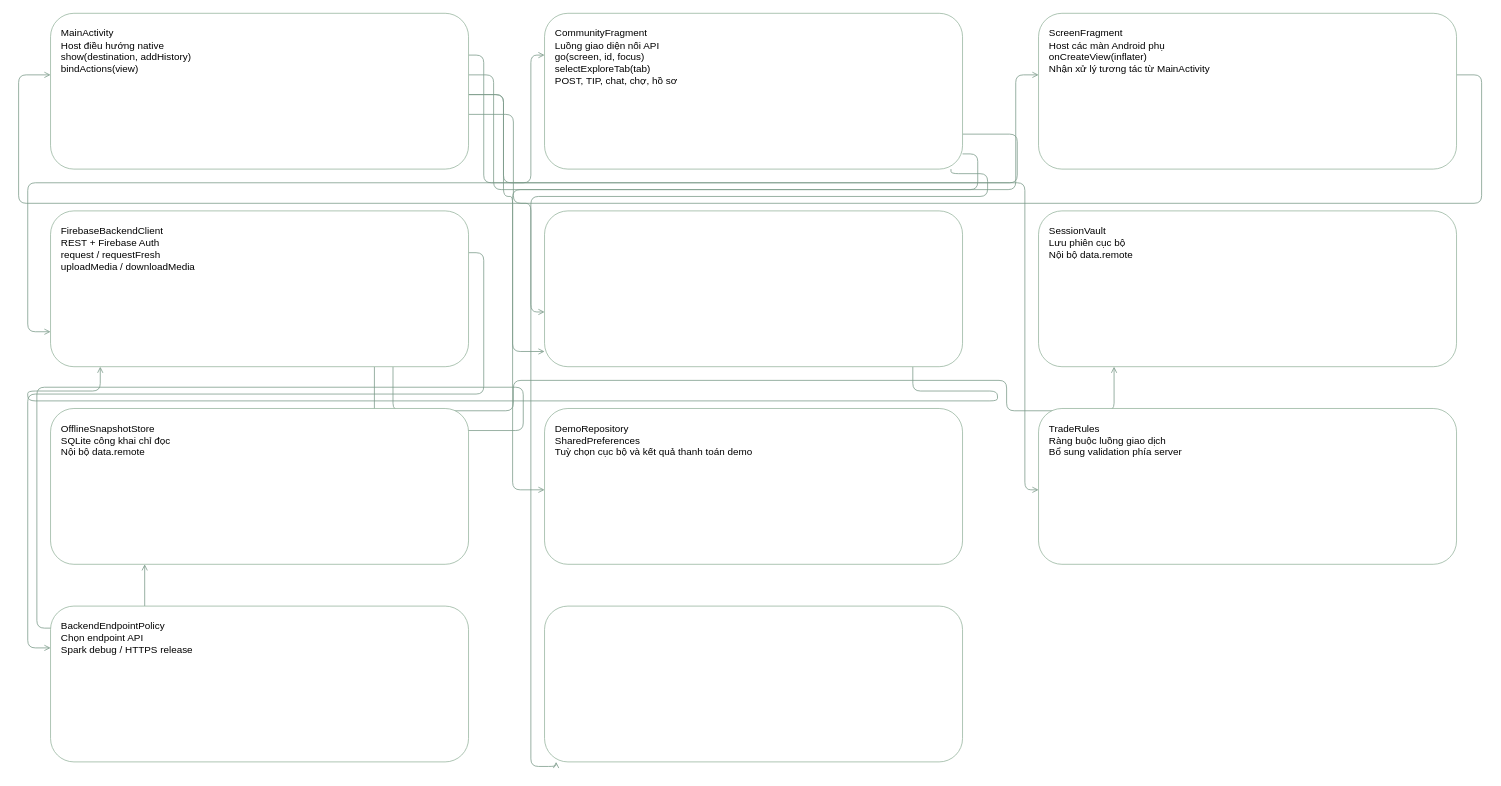
Image size: 1501x786. Some labels were removed from this diagram. Each missing label, with the centre of its shape:
"BackendSession Phiên và hồ sơ đăng nhập get(context) / profile()" goes at point 753,288.
"PhotoUploadEncoder Nén/chuẩn hóa ảnh cho Firestore Spark forFirestore(bytes)" goes at point 753,683.
